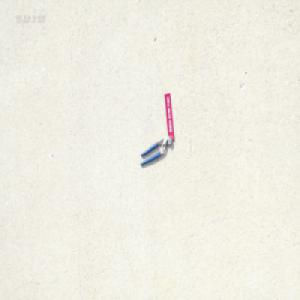Label: (164, 91, 175, 140)
Pliers: (139, 134, 172, 166)
